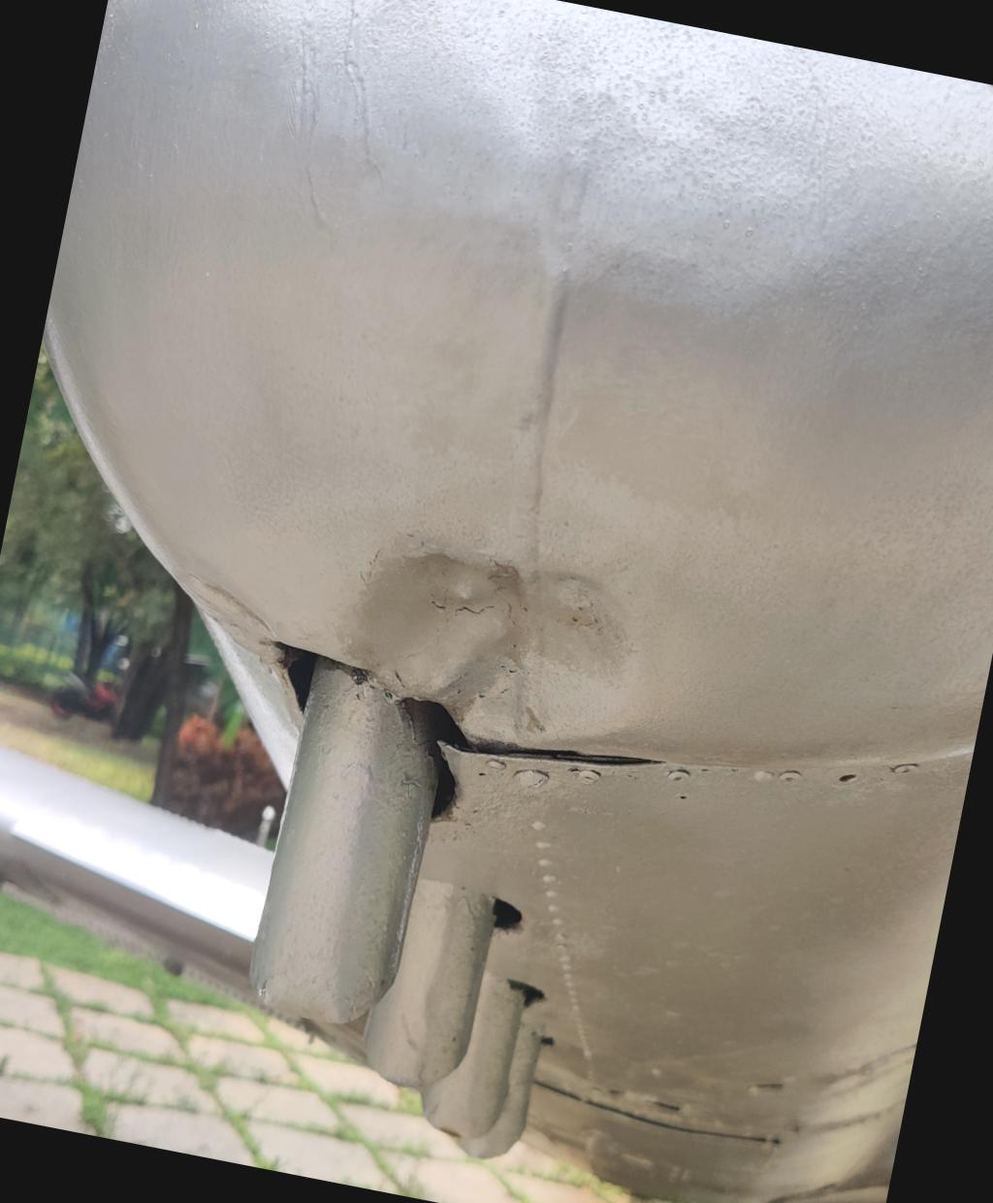dent: (317, 520, 650, 794)
